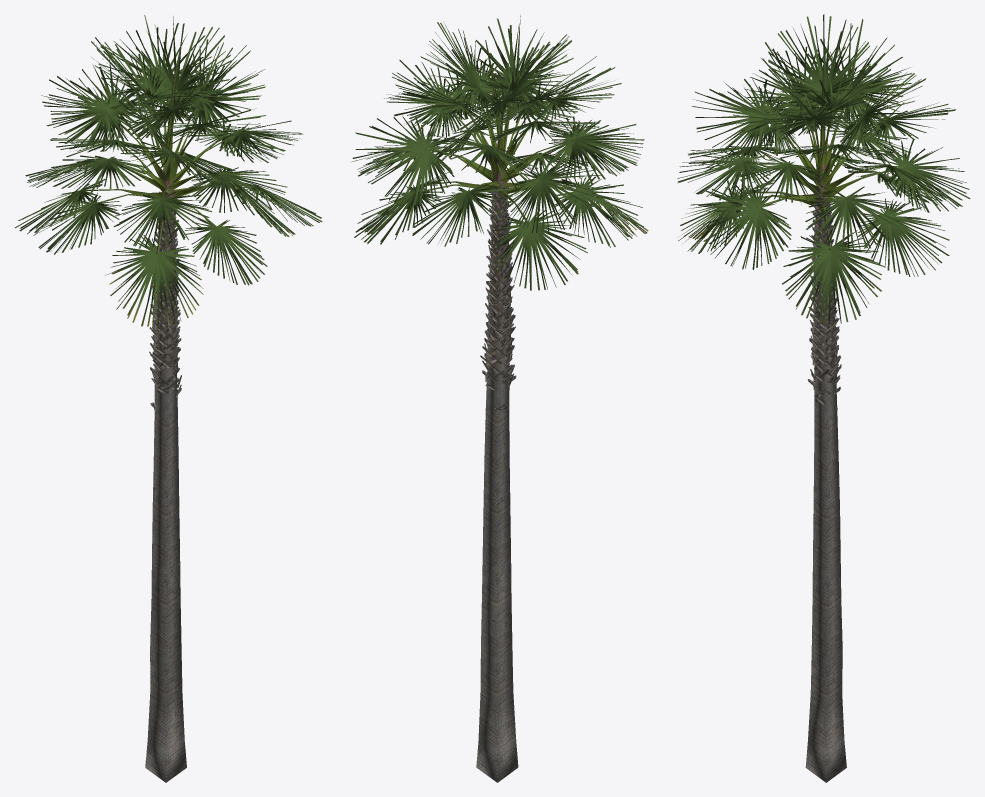
The model's file is fanpalm_cal2.glb.
The picture shows the model from 3 angles, left to right: view 1: azimuth 30°, elevation 25°; view 2: azimuth 150°, elevation 25°; view 3: azimuth 270°, elevation 25°; orthographic projection.
Parts seen in each view (by area): view 1: Washingtonia_filifera_HD_w; view 2: Washingtonia_filifera_HD_w; view 3: Washingtonia_filifera_HD_w.
Part boxes in pixels (x1,y1,x2,y2): Washingtonia_filifera_HD_w: [14, 15, 322, 782]; Washingtonia_filifera_HD_w: [352, 15, 648, 782]; Washingtonia_filifera_HD_w: [677, 14, 970, 782].
Bounding box in the file's own units: 4.58 × 12.5 × 4.56.
Materials: 9 (9 with a texture image).
